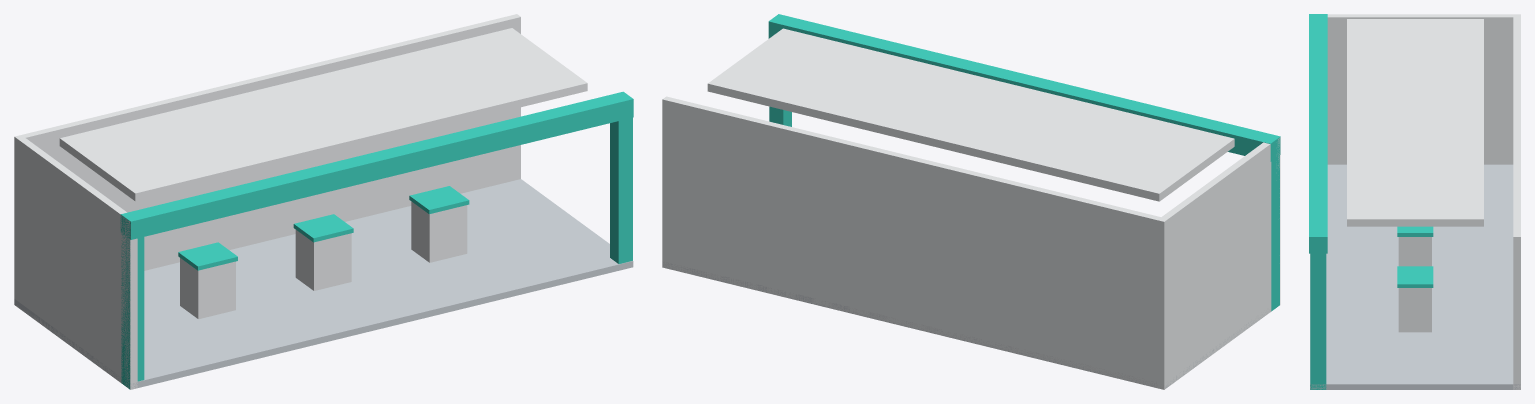
The picture shows the model from 3 angles, left to right: view 1: azimuth 30°, elevation 25°; view 2: azimuth 150°, elevation 25°; view 3: azimuth 270°, elevation 25°; orthographic projection. The views are drawn at different scales.
Visible parts, largest first — view 1: Exhibition Booth Concept; view 2: Exhibition Booth Concept; view 3: Exhibition Booth Concept.
Part boxes in pixels (x1=…): Exhibition Booth Concept: x1=14, y1=14, x2=633, y2=389; Exhibition Booth Concept: x1=662, y1=14, x2=1280, y2=389; Exhibition Booth Concept: x1=1309, y1=14, x2=1520, y2=389.
Bounding box in the file's own units: 10 × 3.34 × 4.02.
